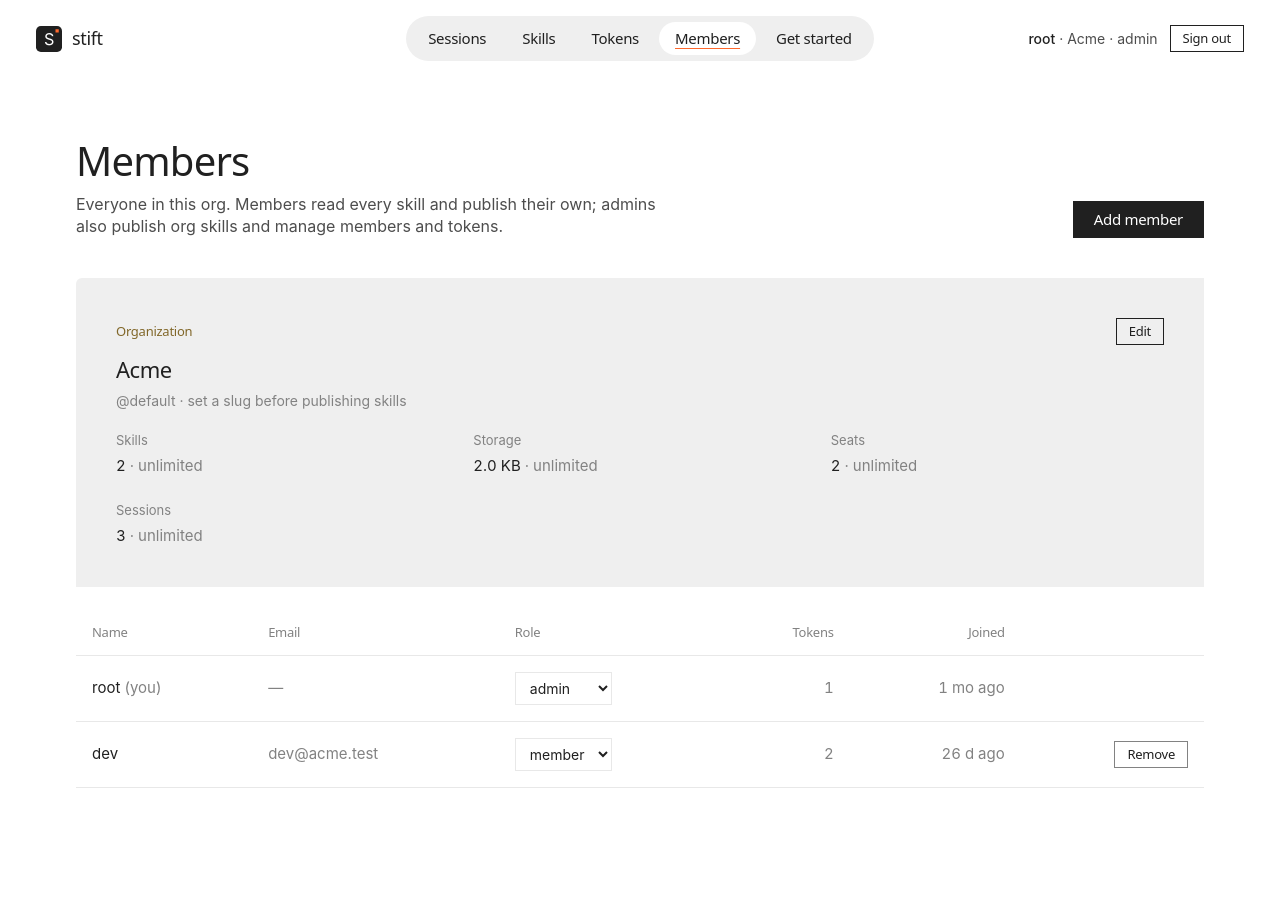
Test: role changes save on select and surface the last-admin refusal
Check: the text "dev@acme.test" is shown, box [252,721,499,787]
Select "admin" in the dropdown named "Role of dev": (563, 754) [515,738,612,771]
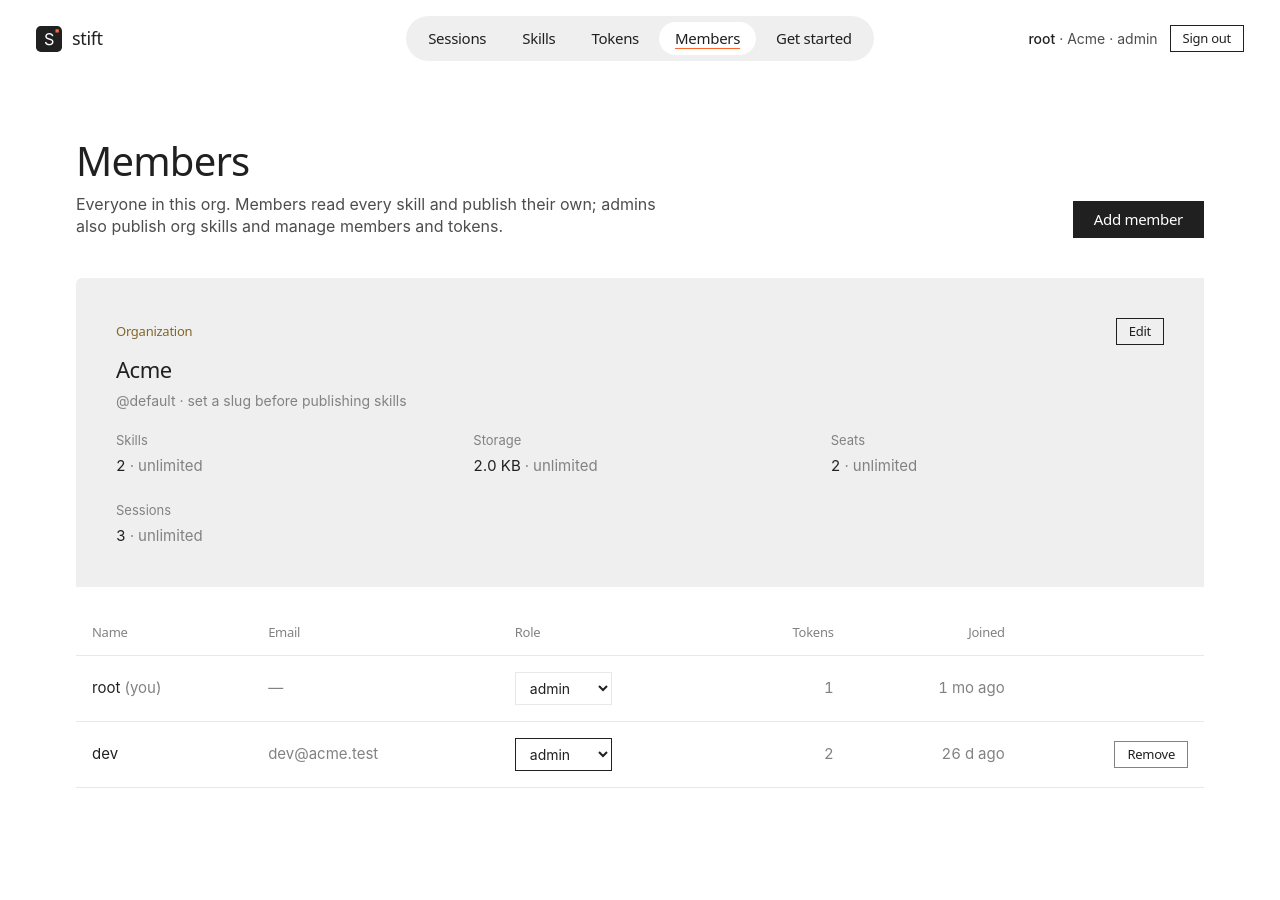
Select "member" in the dropdown named "Role of root": (563, 688) [515,672,612,705]
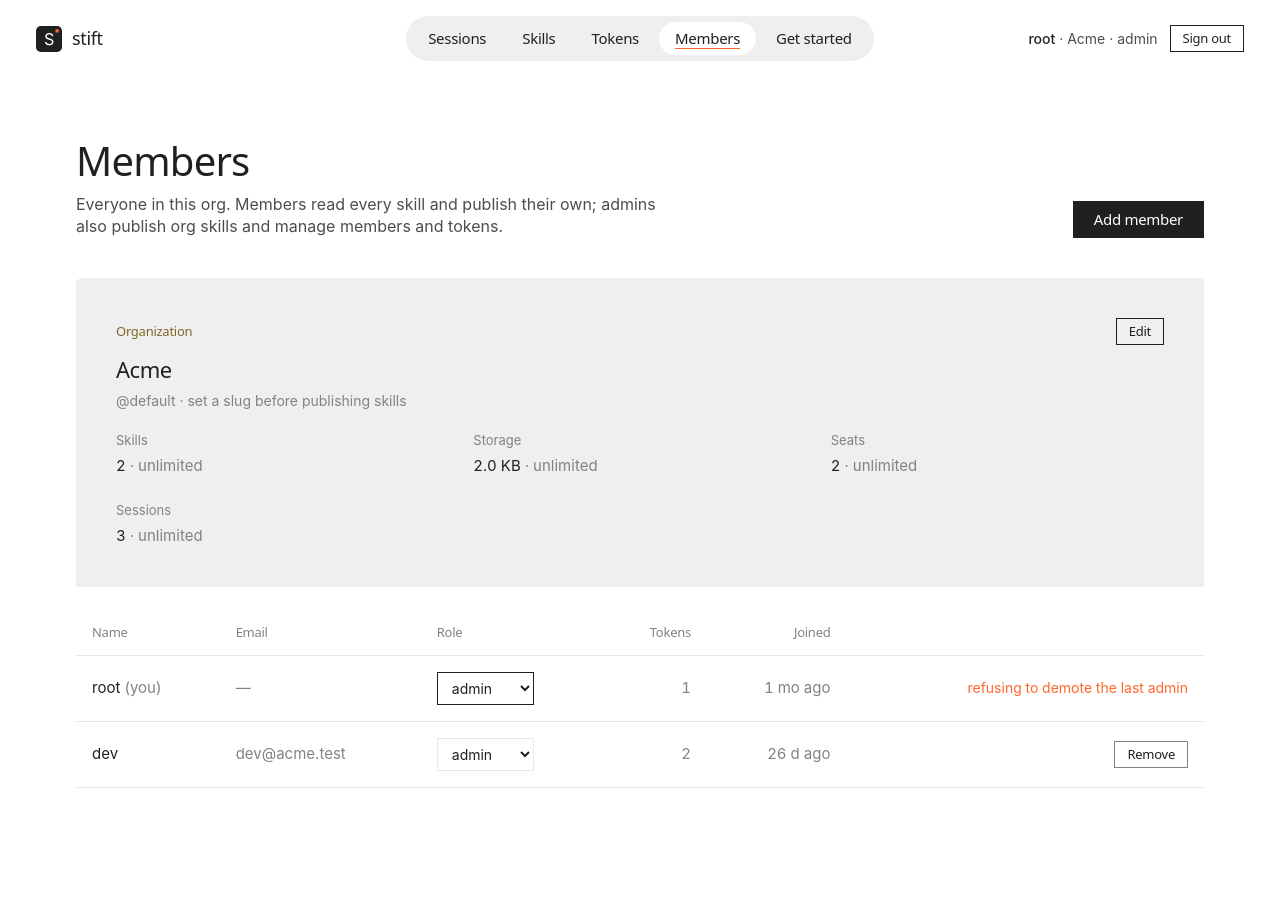
Check: the message reads "refusing to demote the last admin", box [968,679,1188,696]
